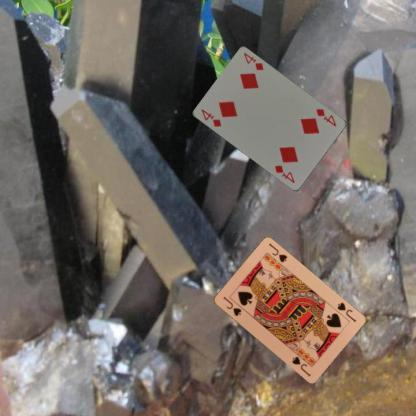4d: (198, 106, 223, 128), (313, 106, 338, 128)
Js: (334, 300, 357, 323), (220, 294, 242, 317)
